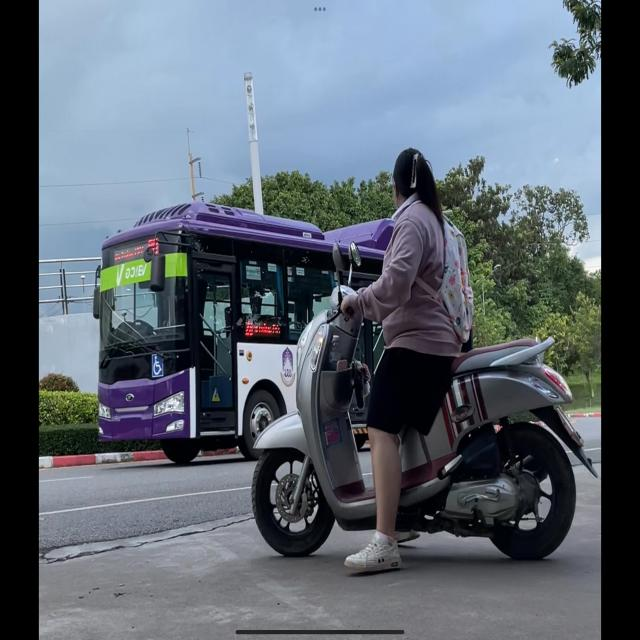seatbelt: (390, 146, 435, 210)
